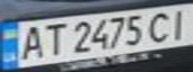2: (69, 18, 93, 55)
4: (90, 16, 112, 52)
5: (124, 11, 151, 46)
7: (106, 15, 130, 49)
A: (15, 22, 48, 61)
C: (145, 9, 178, 43)
I: (163, 6, 193, 39)
T: (36, 20, 69, 57)
